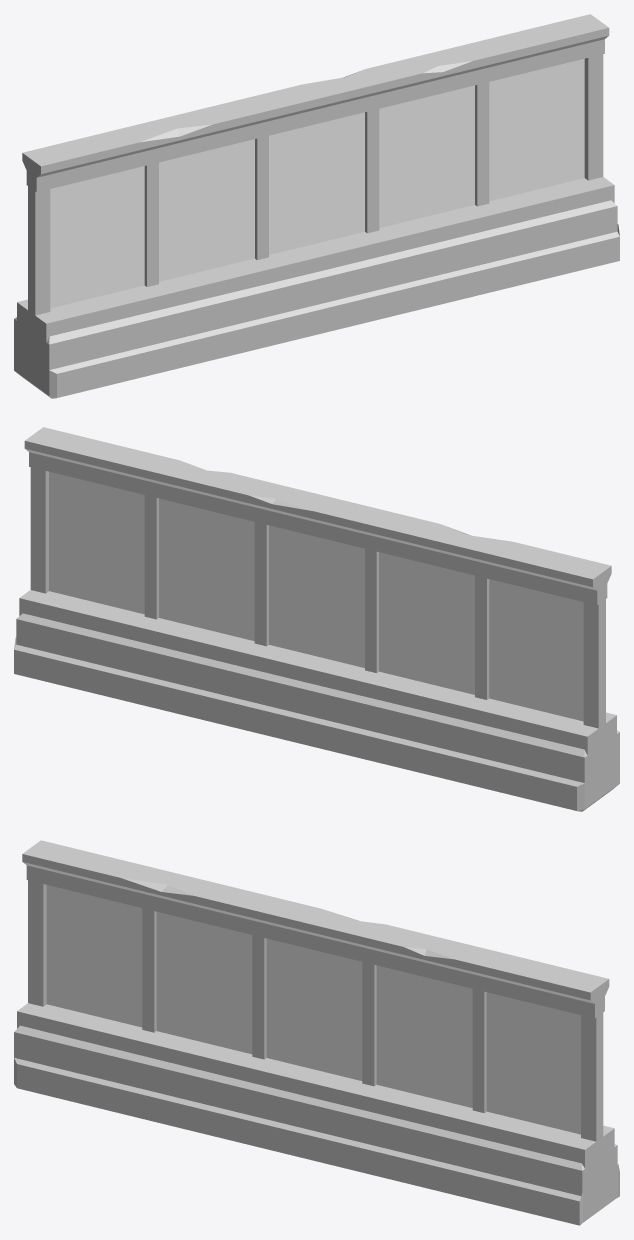
The model's file is SM_Bld_Wall_Balcony_03.glb.
3 renders of one model, top to bottom at view 1: azimuth 30°, elevation 25°; view 2: azimuth 150°, elevation 25°; view 3: azimuth 330°, elevation 25°, orthographic.
Visible parts, largest first — view 1: SM_Bld_Wall_Balcony_03; view 2: SM_Bld_Wall_Balcony_03; view 3: SM_Bld_Wall_Balcony_03.
Boxes of the visible parts, x1,y1,x2,y2 form: SM_Bld_Wall_Balcony_03: [14, 14, 619, 398]; SM_Bld_Wall_Balcony_03: [14, 427, 619, 811]; SM_Bld_Wall_Balcony_03: [14, 840, 619, 1225].
Size of the model in its own units: 2.5 by 0.966 by 0.3061.
Materials: 2 (1 with a texture image).
